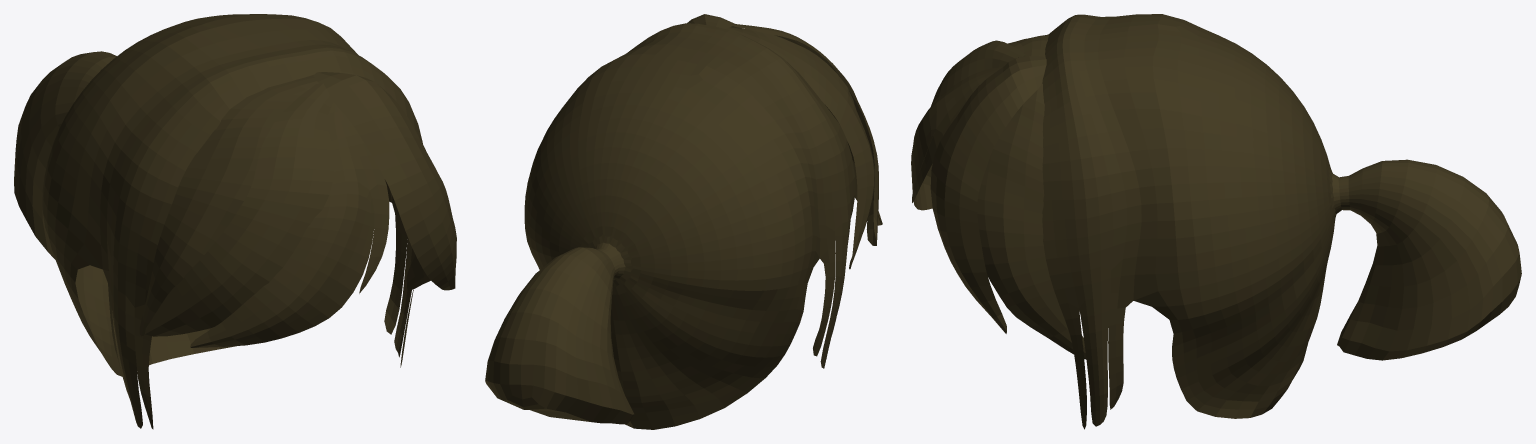
The model's file is Kami01.fbx.
3 views of the same model, side by side, from view 1: azimuth 30°, elevation 25°; view 2: azimuth 150°, elevation 25°; view 3: azimuth 270°, elevation 25° (orthographic). The views are drawn at different scales.
Parts seen in each view (by area): view 1: Kami01; view 2: Kami01; view 3: Kami01.
Boxes of the visible parts, x1=… form: Kami01: x1=14, y1=14, x2=456, y2=429; Kami01: x1=485, y1=14, x2=882, y2=429; Kami01: x1=911, y1=14, x2=1521, y2=429.
Bounding box in the file's own units: 16.68 × 19.16 × 28.94.
